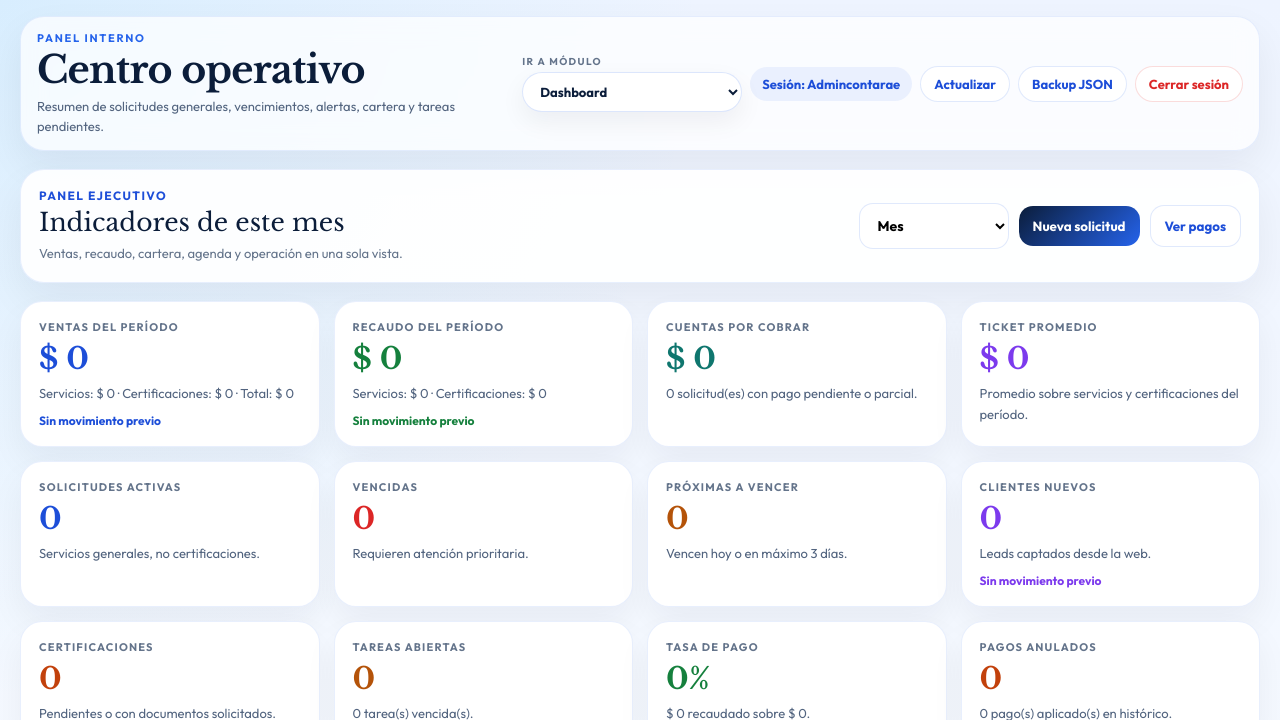
keeps certification records visible after closing a certification detail
Select "Certificaciones (0)" in the dropdown named "Seleccionar módulo del panel" at (632, 92), box [522, 72, 742, 112]
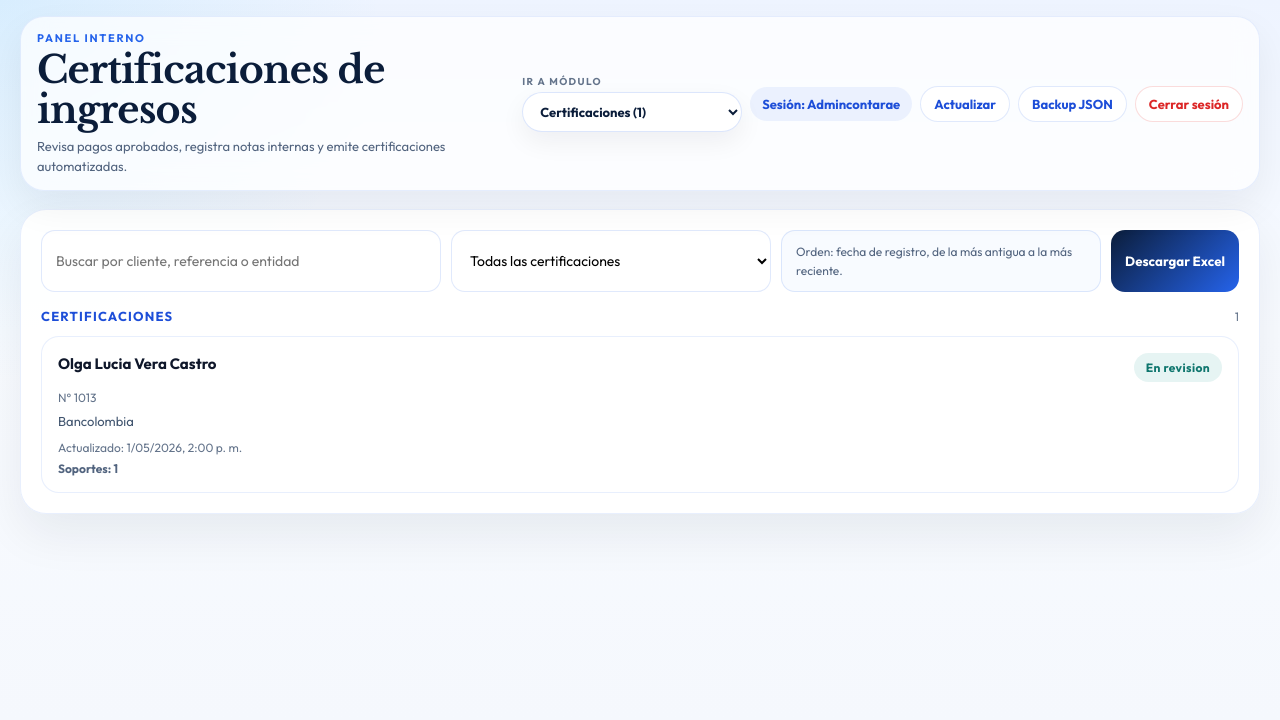
Click the button "Olga Lucia Vera Castro".
click(640, 414)  # box [41, 336, 1239, 492]
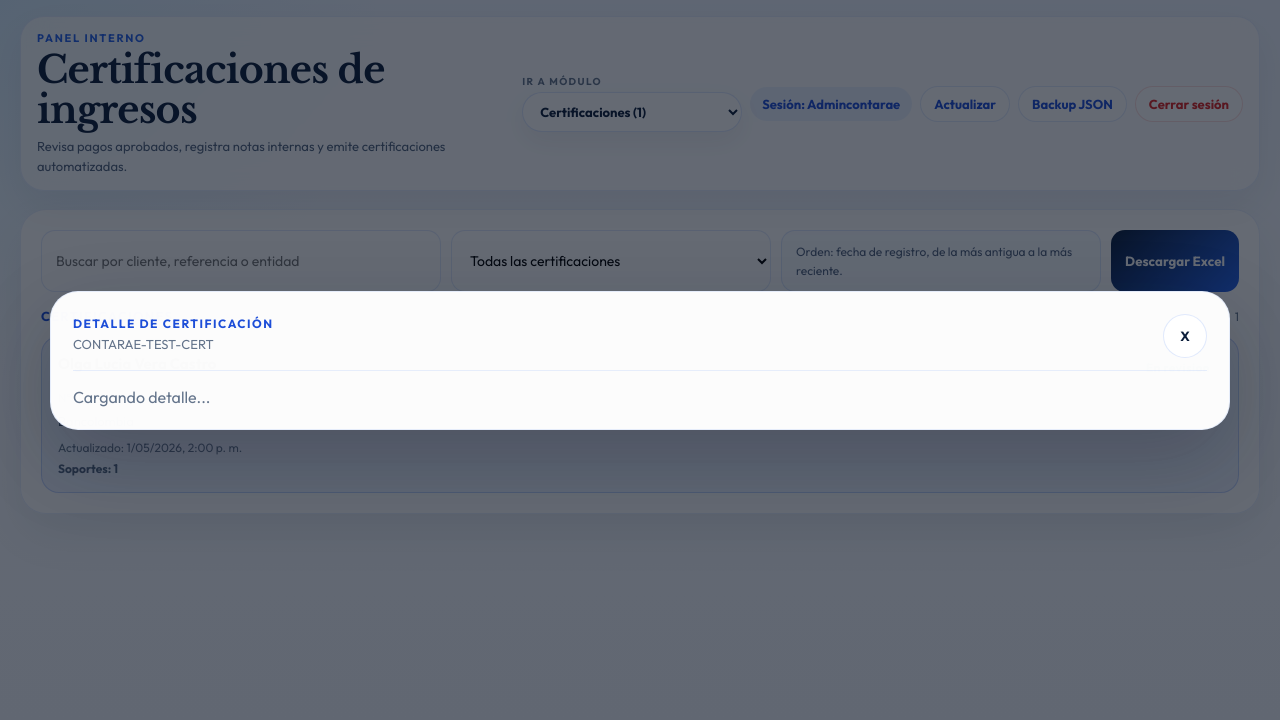
Check: the text "DETALLE DE CERTIFICACIÓN" is shown, box [73, 316, 274, 331]
Click the button named "Cerrar certificación".
click(1185, 336)  # box [1163, 314, 1207, 358]
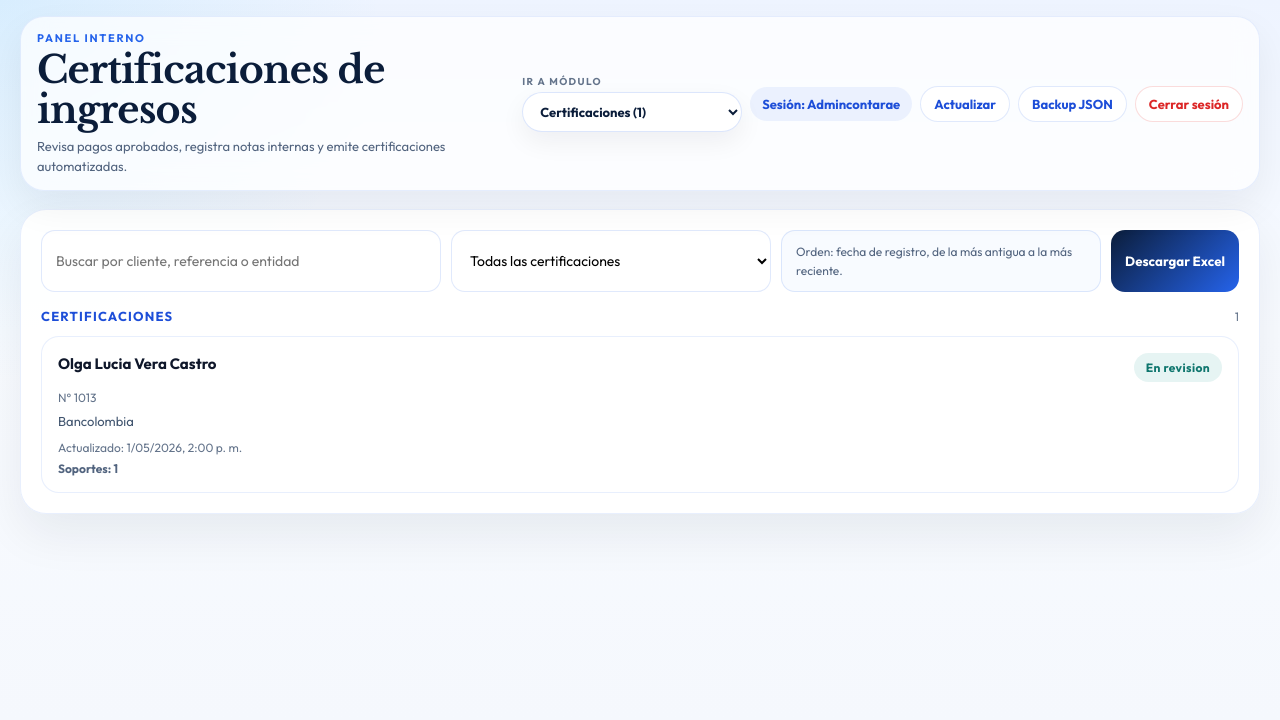
Check: the text "Olga Lucia Vera Castro" is shown, box [58, 353, 216, 382]
Check: the text "DETALLE DE CERTIFICACIÓN" is gone
